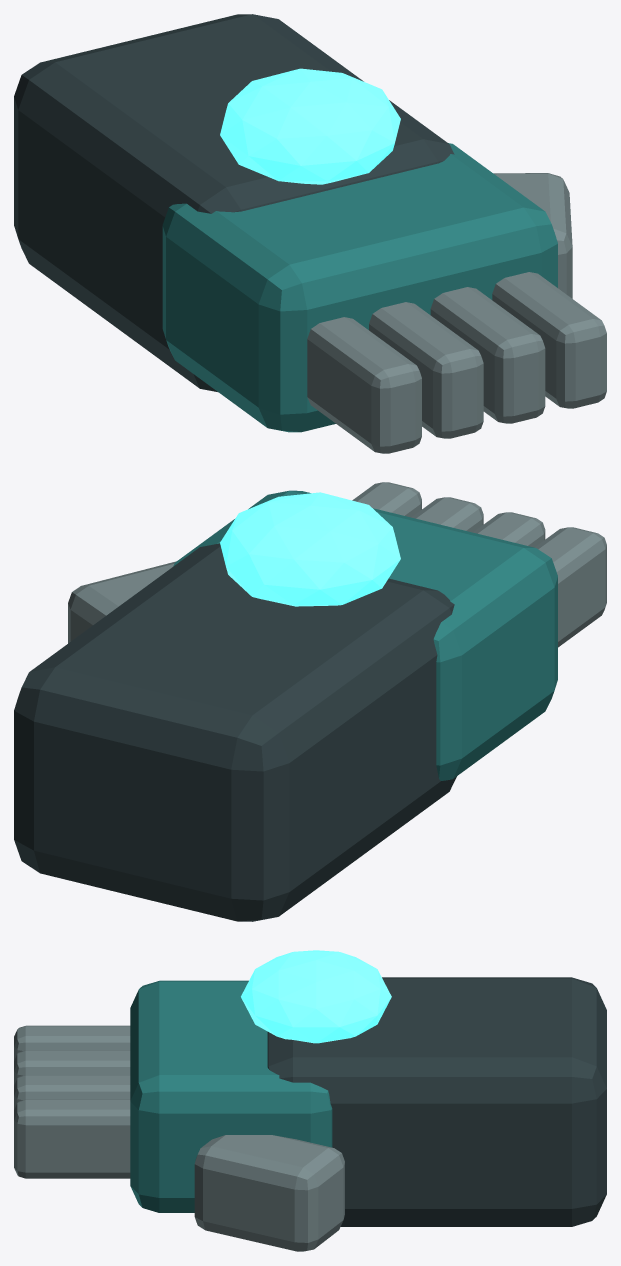
File: SM_AetherGauntlet.fbx
The picture shows the model from 3 angles, top to bottom: view 1: azimuth 30°, elevation 25°; view 2: azimuth 150°, elevation 25°; view 3: azimuth 270°, elevation 25°; orthographic projection. The views are drawn at different scales.
Visible parts, largest first — view 1: SM_AetherGauntlet; view 2: SM_AetherGauntlet; view 3: SM_AetherGauntlet.
Part boxes in pixels (x1,y1,x2,y2): SM_AetherGauntlet: (14,14,606,453); SM_AetherGauntlet: (14,482,606,921); SM_AetherGauntlet: (14,950,606,1251).
Size of what is drawn, in the model's own units: 0.3207 by 0.51 by 0.215.
